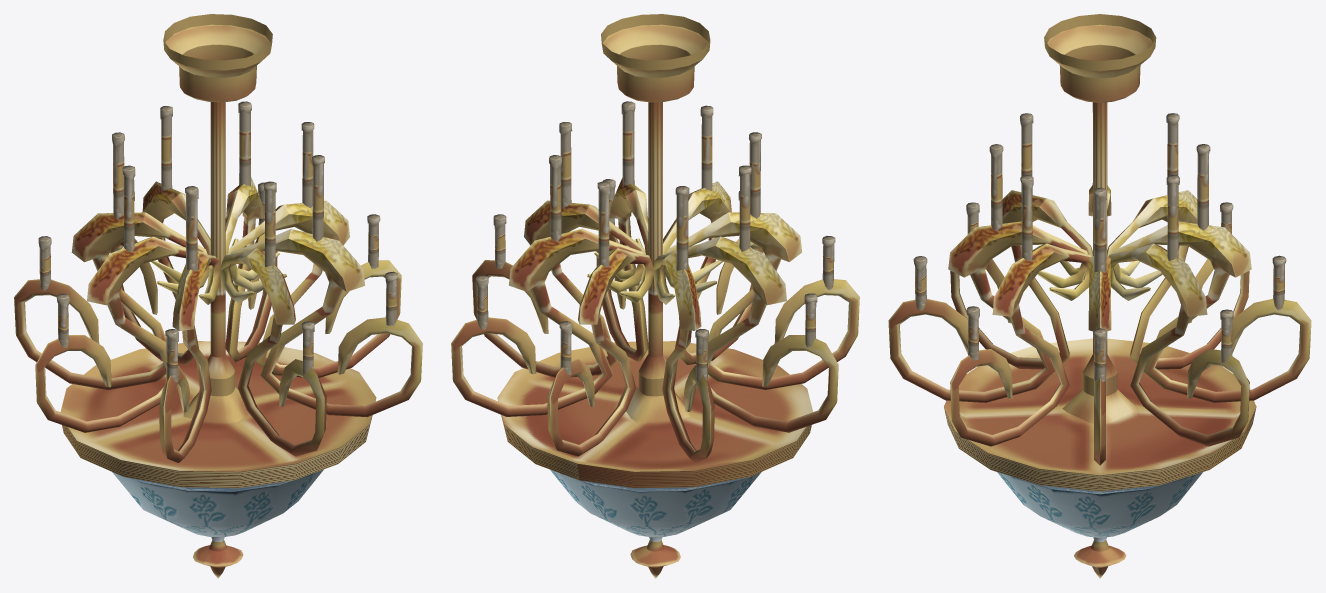
Rendered from CA_OPE_Props_Castle_Candelabra_001.fbx.
The picture shows the model from 3 angles, left to right: view 1: azimuth 30°, elevation 25°; view 2: azimuth 150°, elevation 25°; view 3: azimuth 270°, elevation 25°; orthographic projection.
Parts seen in each view (by area): view 1: CA_OPE_Props_Castle_Chandelier; view 2: CA_OPE_Props_Castle_Chandelier; view 3: CA_OPE_Props_Castle_Chandelier.
Part boxes in pixels (left/top/right/bottom): CA_OPE_Props_Castle_Chandelier: left=14, top=14, right=422, bottom=578; CA_OPE_Props_Castle_Chandelier: left=451, top=14, right=859, bottom=578; CA_OPE_Props_Castle_Chandelier: left=888, top=14, right=1311, bottom=578.
Size of the model in its own units: 2.83 by 3.99 by 2.83.
